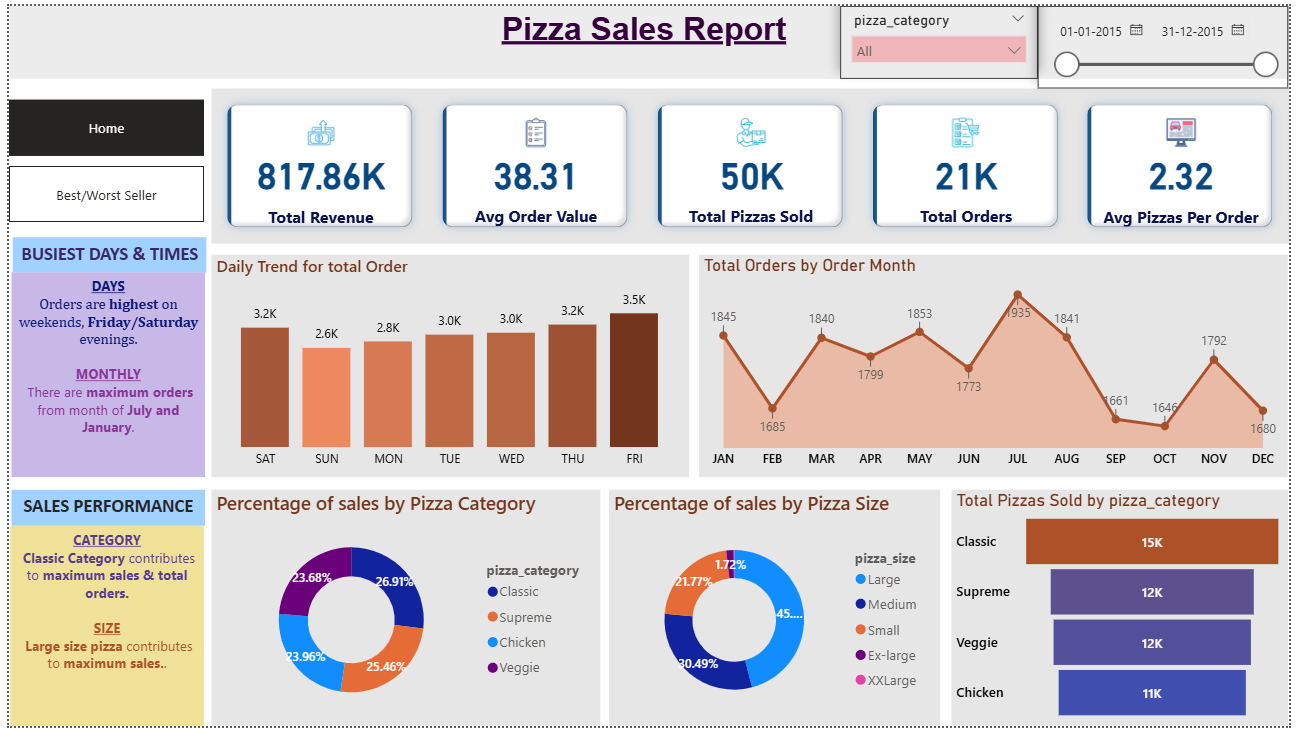

Layout of this report page (visuals, bound fields, positions):
{"tool":"powerbi","page":{"name":"Home","canvas":[1280,720],"ordinal":0},"visuals":[{"type":"cardVisual","fields":{"Data":["pizza_sales.Total Revenue","pizza_sales.Avg Order Value","pizza_sales.Total Pizzas Sold","pizza_sales.Total Orders","pizza_sales.Avg Pizzas Per Order"]},"box":[202.5,82.5,1077.5,155],"z":0},{"type":"columnChart","title":"Daily Trend for total Order","fields":{"Category":["pizza_sales.Order Day"],"Y":["pizza_sales.Total Orders"]},"box":[202.5,248.8,477.5,222.5],"z":1000},{"type":"textbox","box":[0,0,1278.8,72.5],"z":2000},{"type":"areaChart","fields":{"Y":["pizza_sales.Total Orders"],"Category":["pizza_sales.Order Month"]},"box":[690,248.8,588.8,222.5],"z":3000},{"type":"donutChart","title":"Percentage of sales by Pizza Category","fields":{"Category":["pizza_sales.pizza_category"],"Y":["pizza_sales.Total Revenue"]},"box":[202.5,484,388.9,235.8],"z":4000},{"type":"donutChart","title":"Percentage of sales by Pizza Size","fields":{"Y":["pizza_sales.Total Revenue"],"Category":["pizza_sales.pizza_size"]},"box":[600,484,330.9,235.8],"z":5000},{"type":"funnel","fields":{"Category":["pizza_sales.pizza_category"],"Y":["pizza_sales.Total Pizzas Sold"]},"box":[942,484,337,235.8],"z":6000},{"type":"textbox","box":[3.8,231.2,193.8,35],"z":7000},{"type":"textbox","box":[2.5,266.2,193.8,205],"z":8000},{"type":"textbox","box":[1.2,519.8,193.8,200],"z":9000},{"type":"textbox","box":[2.5,484,193.8,35.8],"z":10000},{"type":"slicer","fields":{"Values":["pizza_sales.pizza_category"]},"box":[831.2,0,197.5,72.5],"z":11000},{"type":"slicer","fields":{"Values":["pizza_sales.order_date"]},"box":[1028.8,0,250,82.5],"z":12000},{"type":"pageNavigator","box":[0,93.8,195,56.2],"z":13000},{"type":"pageNavigator","box":[0,160,195,56.2],"z":14000}]}

Visuals, with their boxes in screenshot pixels (x1, y1, x2, y2), scaled from the page's 1280x720 canvas onto the 1296x732 screenshot:
cardVisual - pizza_sales.Total Revenue x pizza_sales.Avg Order Value: (x1=205, y1=84, x2=1295, y2=241)
"Daily Trend for total Order" columnChart: (x1=205, y1=253, x2=688, y2=479)
textbox: (x1=0, y1=0, x2=1295, y2=74)
areaChart - pizza_sales.Total Orders x pizza_sales.Order Month: (x1=699, y1=253, x2=1295, y2=479)
"Percentage of sales by Pizza Category" donutChart: (x1=205, y1=492, x2=599, y2=731)
"Percentage of sales by Pizza Size" donutChart: (x1=608, y1=492, x2=943, y2=731)
funnel - pizza_sales.pizza_category x pizza_sales.Total Pizzas Sold: (x1=954, y1=492, x2=1295, y2=731)
textbox: (x1=4, y1=235, x2=200, y2=271)
textbox: (x1=3, y1=271, x2=199, y2=479)
textbox: (x1=1, y1=528, x2=197, y2=731)
textbox: (x1=3, y1=492, x2=199, y2=528)
slicer - pizza_sales.pizza_category: (x1=842, y1=0, x2=1042, y2=74)
slicer - pizza_sales.order_date: (x1=1042, y1=0, x2=1295, y2=84)
pageNavigator: (x1=0, y1=95, x2=197, y2=152)
pageNavigator: (x1=0, y1=163, x2=197, y2=220)
